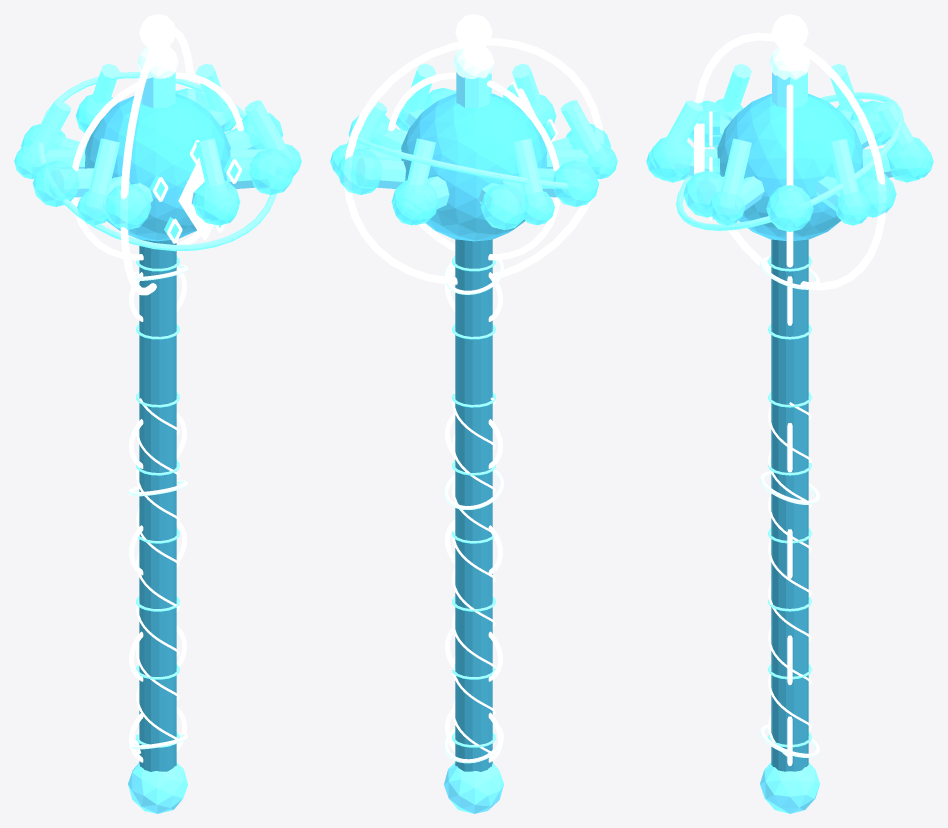
Rendered from bildmaster_mace_hologram_v2.glb.
The picture shows the model from 3 angles, left to right: view 1: azimuth 30°, elevation 25°; view 2: azimuth 150°, elevation 25°; view 3: azimuth 270°, elevation 25°; orthographic projection.
Visible parts, largest first — view 1: mace_core, mace_white, mace_glass, mace_aqua, mace_body, mace_metal, mace_light; view 2: mace_core, mace_white, mace_body, mace_glass, mace_metal, mace_aqua, mace_light; view 3: mace_core, mace_glass, mace_body, mace_white, mace_aqua, mace_metal, mace_light.
Part boxes in pixels (bbox=[...]): mace_core: bbox=[139, 240, 176, 771]; mace_white: bbox=[71, 14, 243, 762]; mace_glass: bbox=[14, 88, 301, 239]; mace_aqua: bbox=[24, 63, 291, 747]; mace_body: bbox=[84, 93, 230, 241]; mace_metal: bbox=[33, 72, 275, 813]; mace_light: bbox=[128, 46, 187, 749]; mace_core: bbox=[455, 239, 492, 771]; mace_white: bbox=[344, 14, 603, 762]; mace_body: bbox=[401, 93, 547, 241]; mace_glass: bbox=[330, 84, 617, 229]; mace_metal: bbox=[356, 72, 598, 813]; mace_aqua: bbox=[340, 63, 607, 747]; mace_light: bbox=[444, 46, 503, 763]; mace_core: bbox=[771, 239, 808, 771]; mace_glass: bbox=[646, 98, 933, 231]; mace_body: bbox=[717, 93, 862, 240]; mace_white: bbox=[694, 14, 885, 765]; mace_aqua: bbox=[663, 64, 916, 747]; mace_metal: bbox=[673, 72, 906, 813]; mace_light: bbox=[760, 46, 819, 757].
Bounding box in the file's own units: 0.3597 × 1.12 × 0.3668.
